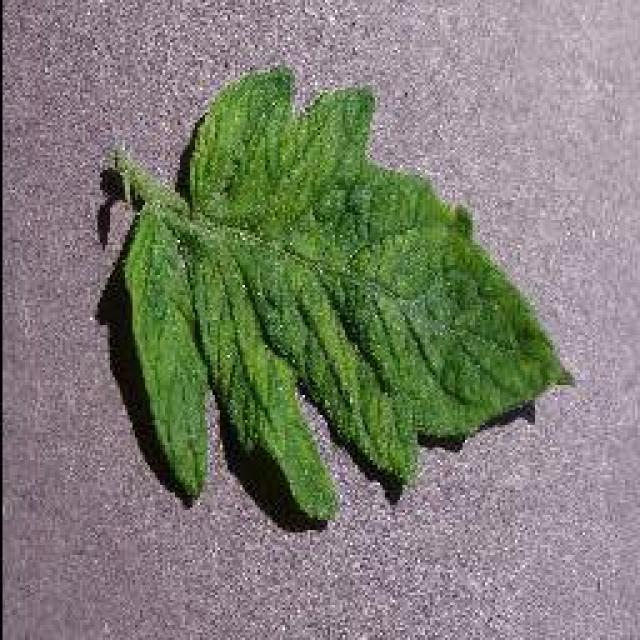Tomato___Tomato_mosaic_virus: (112, 68, 570, 520)
